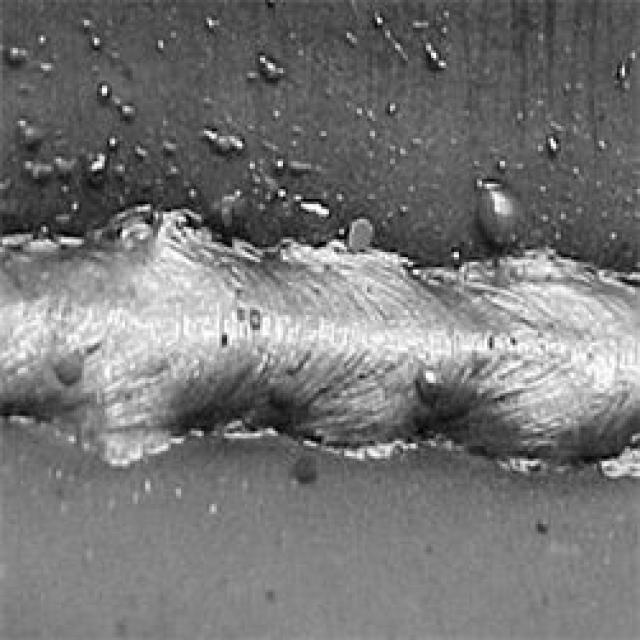Bad Welding: (0, 143, 637, 488)
Spatters: (465, 173, 533, 252), (247, 44, 293, 90)
